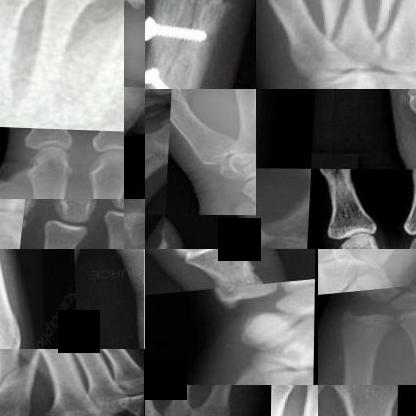fracture: (145, 10, 225, 89), (341, 298, 415, 345), (305, 0, 378, 46), (165, 249, 256, 282), (0, 349, 48, 409), (370, 0, 415, 49), (127, 0, 144, 14)
